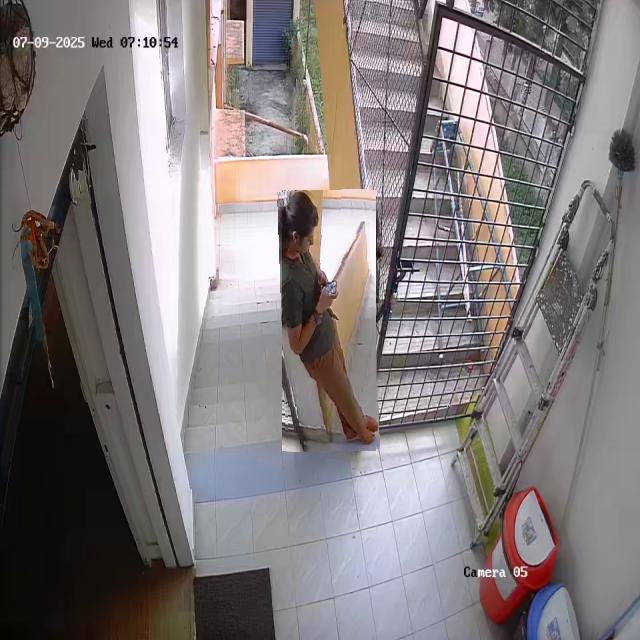person: (280, 189, 378, 452)
